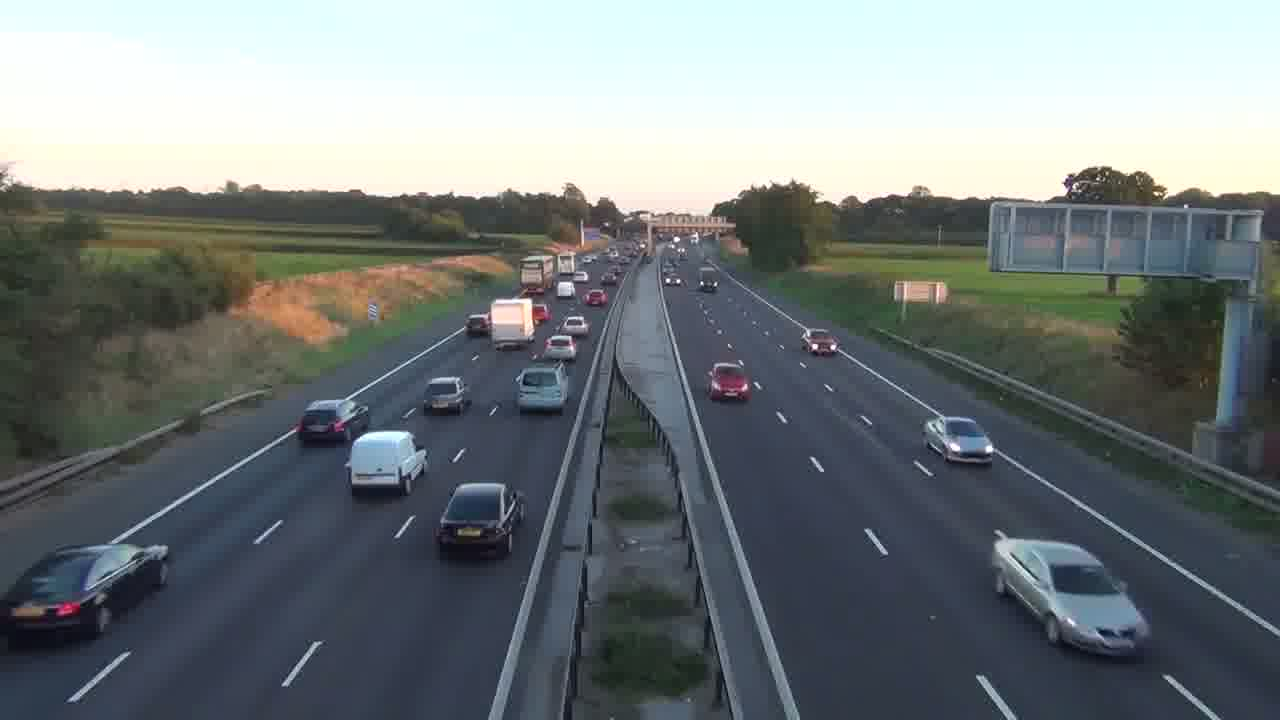car: (0, 541, 172, 644), (434, 481, 527, 558), (514, 364, 566, 414), (705, 361, 752, 402), (422, 375, 470, 415), (543, 333, 577, 363), (802, 329, 838, 357), (561, 313, 591, 338), (583, 289, 608, 307)
truck: (991, 531, 1152, 661), (0, 541, 172, 644), (490, 299, 536, 351), (489, 298, 535, 349)
